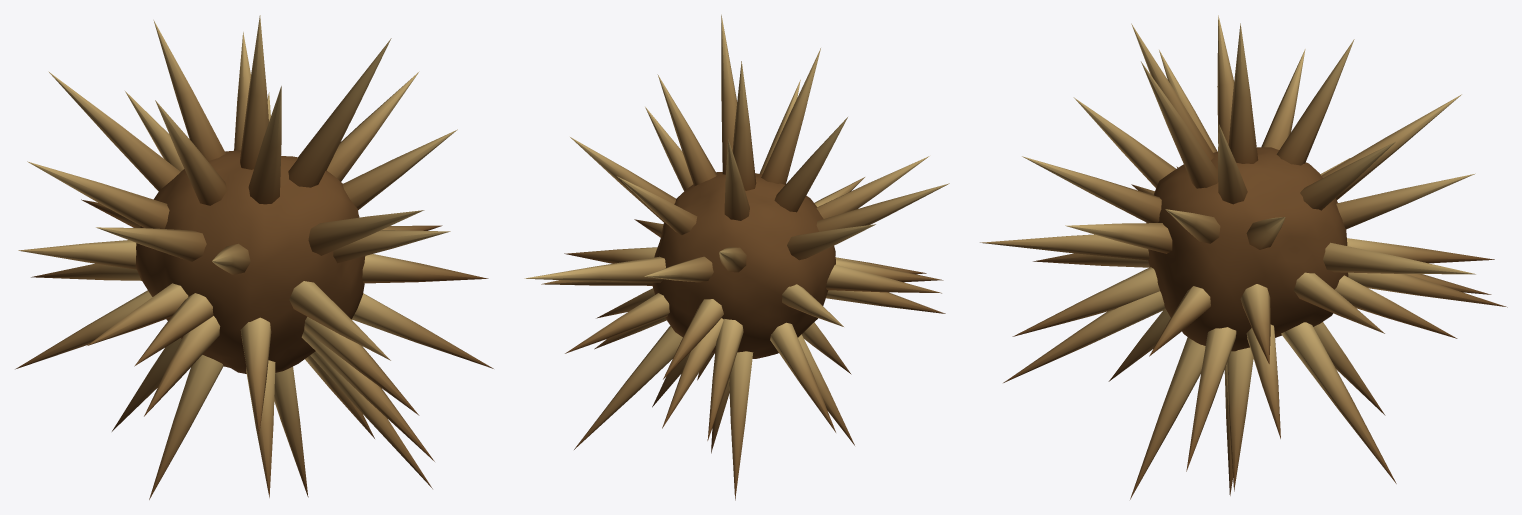
Rendered from thorn.glb.
3 views of the same model, side by side, from view 1: azimuth 30°, elevation 25°; view 2: azimuth 150°, elevation 25°; view 3: azimuth 270°, elevation 25° (orthographic). The views are drawn at different scales.
Visible parts, largest first — view 1: thorn; view 2: thorn; view 3: thorn.
Boxes of the visible parts, <box> form: thorn: <box>15,15,493,499</box>; thorn: <box>524,14,949,500</box>; thorn: <box>980,15,1507,499</box>.
Size of the model in its own units: 0.0672 by 0.0761 by 0.08.
